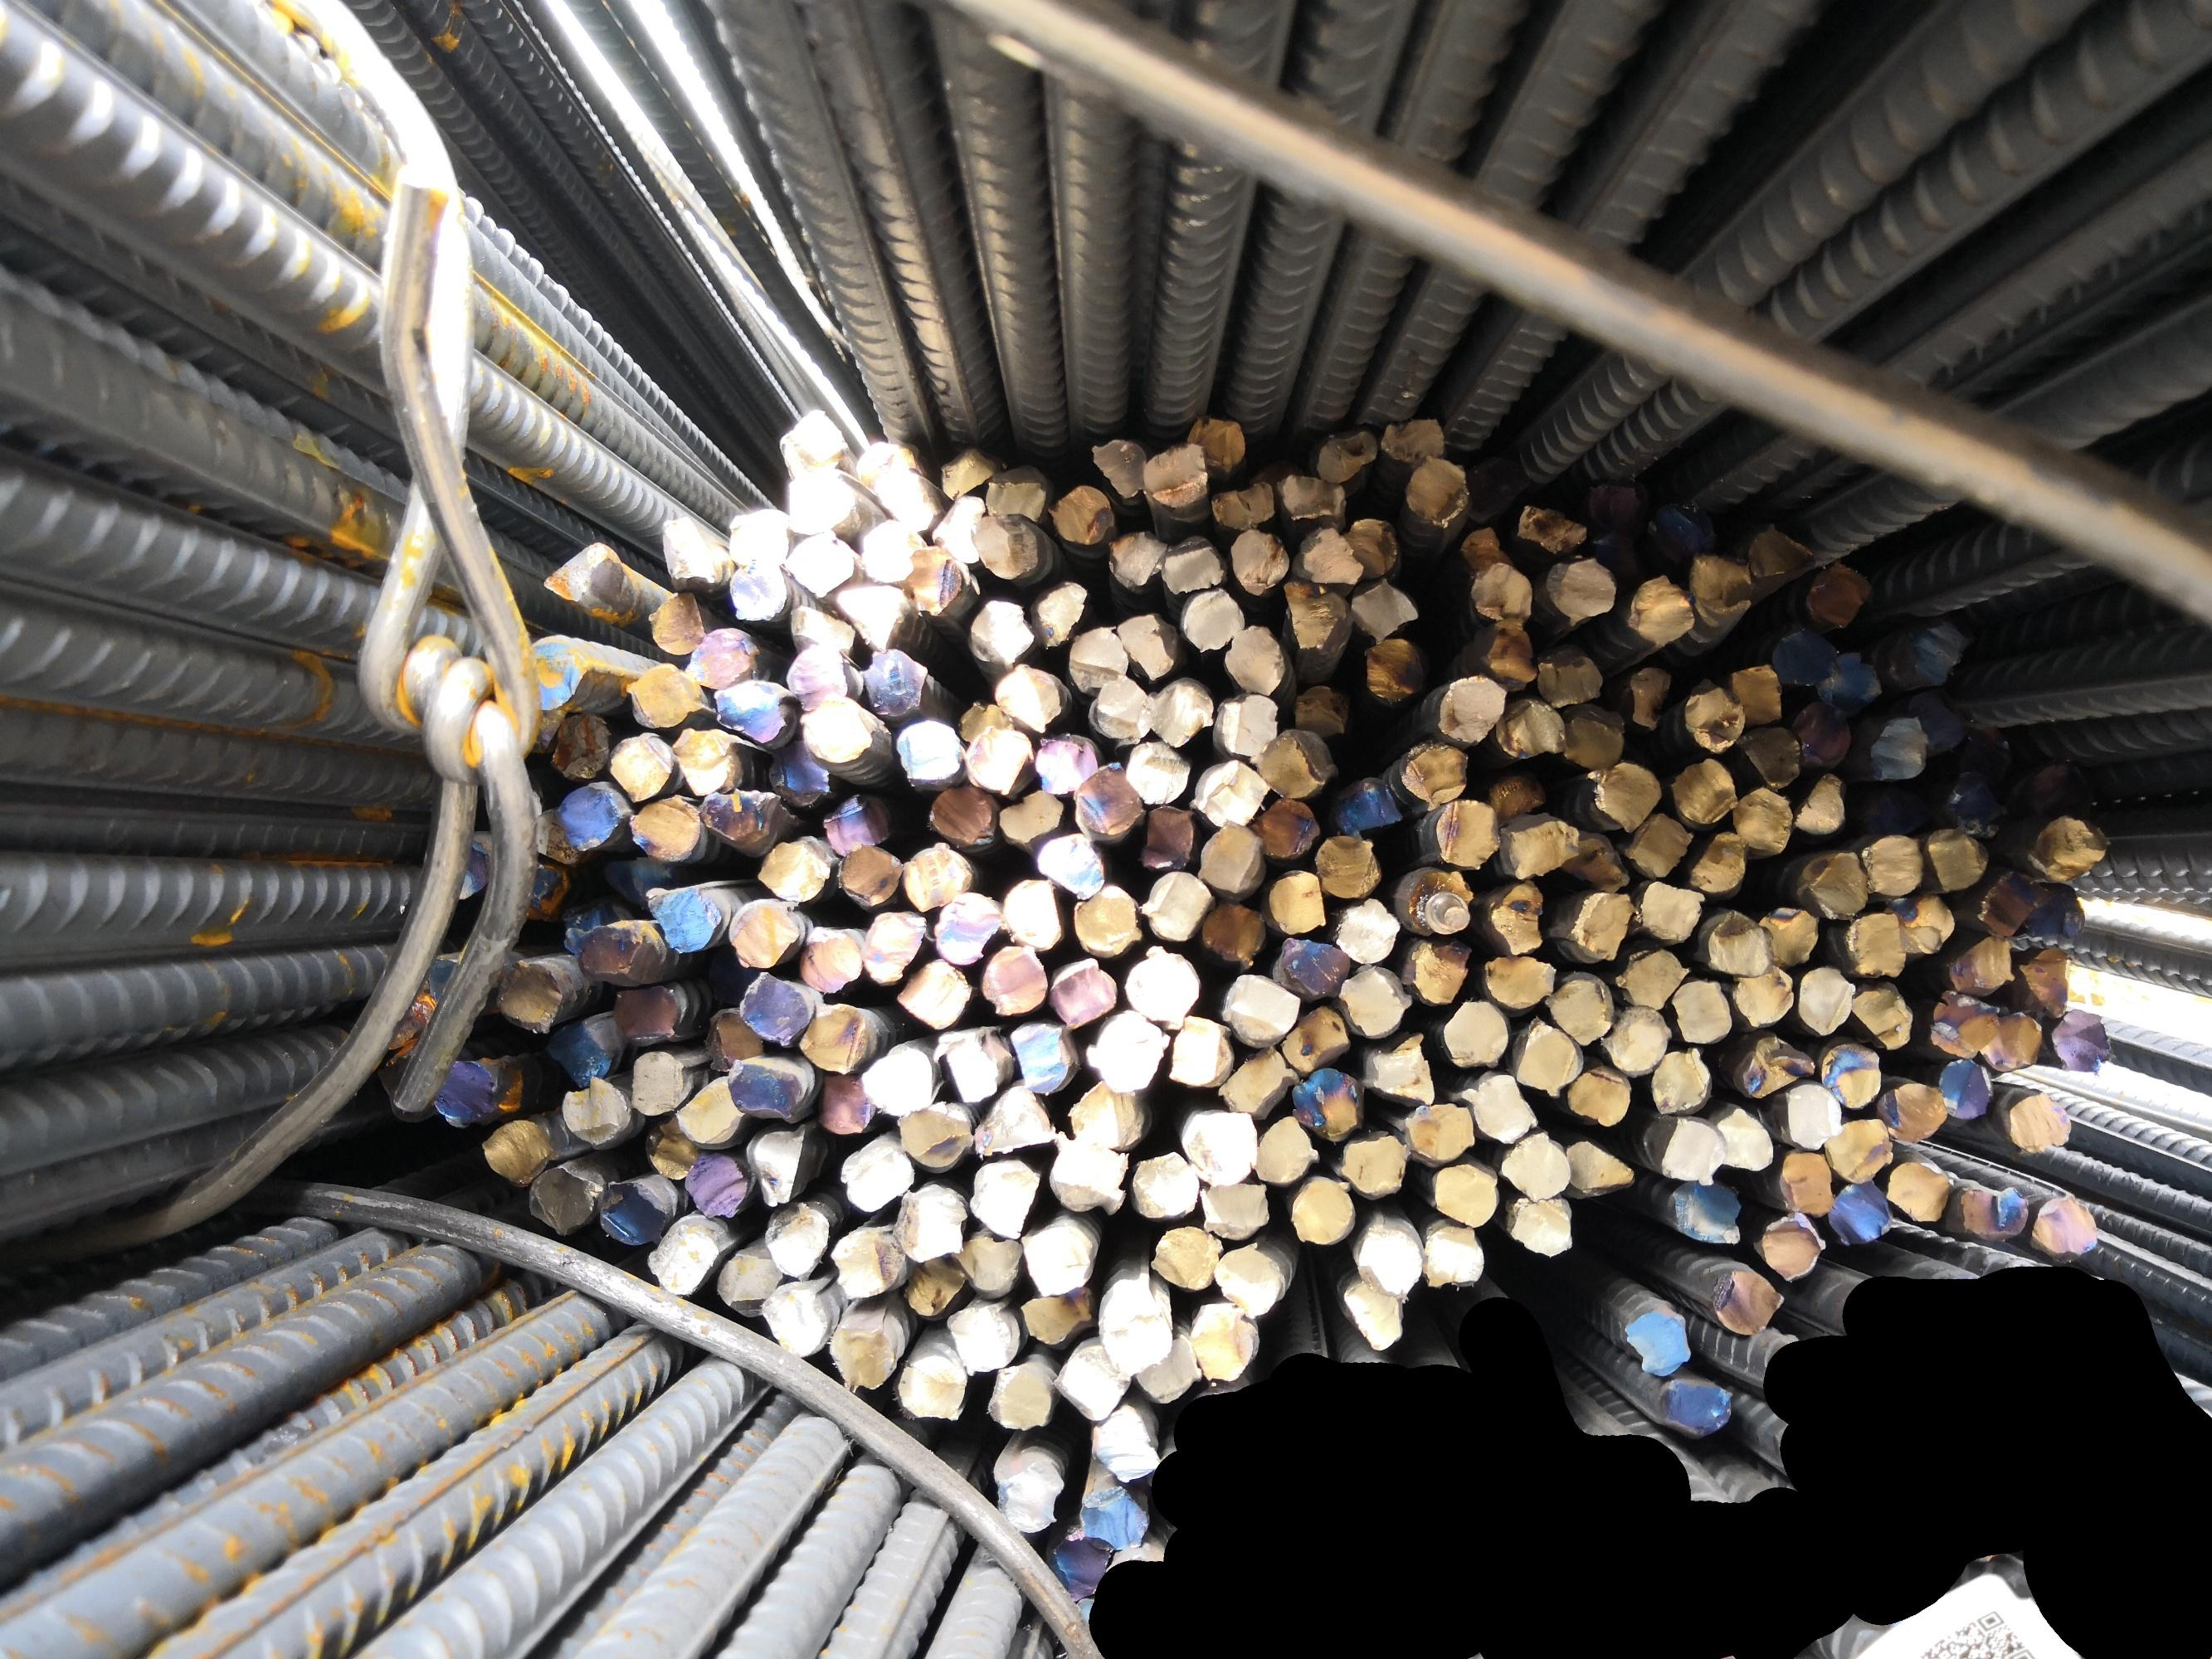bar: (1086, 1009, 1173, 1093), (1048, 1129, 1131, 1213), (1177, 1103, 1260, 1185), (1123, 946, 1203, 1032), (1096, 1291, 1175, 1377), (973, 1080, 1056, 1157), (1049, 1344, 1130, 1422), (1218, 972, 1302, 1047), (643, 1216, 720, 1297), (1018, 1216, 1095, 1297), (1335, 960, 1415, 1037), (891, 1183, 967, 1262), (798, 690, 877, 767), (1210, 1239, 1286, 1317), (544, 535, 619, 615), (1217, 1042, 1297, 1117), (969, 1155, 1041, 1239), (994, 1446, 1065, 1530), (2025, 812, 2111, 882), (1975, 863, 2052, 939), (1459, 1072, 1539, 1145), (1581, 760, 1665, 829), (1515, 1012, 1583, 1098), (736, 969, 812, 1044), (1928, 986, 2005, 1061), (1748, 1208, 1825, 1283), (894, 958, 974, 1030), (1089, 1401, 1159, 1483), (744, 1122, 812, 1206), (826, 1323, 899, 1399), (992, 659, 1065, 735), (1541, 972, 1618, 1046), (1192, 758, 1271, 829), (1192, 821, 1264, 899), (1065, 1079, 1143, 1150), (1353, 1223, 1424, 1302), (1708, 1269, 1787, 1340), (558, 1073, 631, 1148), (840, 1141, 915, 1215), (1138, 870, 1213, 943), (1625, 572, 1698, 647), (1046, 955, 1117, 1032), (1496, 1129, 1572, 1201), (1604, 1002, 1675, 1079), (1394, 739, 1471, 810), (624, 659, 702, 728), (858, 645, 931, 718), (1070, 882, 1143, 955), (1436, 674, 1511, 746), (1625, 1307, 1696, 1382), (675, 1072, 744, 1148), (758, 1281, 828, 1358), (861, 1044, 938, 1114), (783, 465, 859, 535), (1504, 810, 1581, 880), (641, 884, 720, 951), (763, 1201, 831, 1279), (521, 631, 587, 711), (1271, 936, 1351, 1002), (1049, 1521, 1114, 1603), (523, 1162, 594, 1236), (899, 840, 973, 911), (1259, 728, 1330, 802), (1703, 906, 1774, 979), (898, 1100, 973, 1169), (757, 835, 831, 904), (833, 582, 908, 652), (1442, 995, 1511, 1070), (711, 674, 788, 742), (1279, 577, 1347, 653), (1072, 762, 1140, 838), (1565, 885, 1633, 962), (1333, 1129, 1412, 1195), (1738, 1035, 1818, 1100), (479, 1117, 551, 1188), (945, 1302, 1016, 1373), (831, 1229, 903, 1300), (1292, 1065, 1363, 1136), (1433, 796, 1504, 868), (729, 896, 798, 969), (629, 789, 702, 859), (973, 511, 1046, 580), (967, 594, 1037, 667), (1077, 1481, 1147, 1554), (1903, 612, 1973, 685), (1797, 849, 1867, 922), (429, 1058, 497, 1133), (1368, 1030, 1436, 1105), (495, 957, 561, 1033), (861, 906, 927, 983), (1187, 1309, 1253, 1385), (1666, 1178, 1743, 1244), (797, 1002, 866, 1073), (1429, 1157, 1501, 1227), (1557, 697, 1626, 769), (1860, 714, 1931, 784), (1822, 1176, 1891, 1248), (981, 941, 1049, 1014), (964, 721, 1032, 795), (1035, 831, 1109, 899), (1633, 878, 1706, 946), (725, 1056, 800, 1122), (1018, 1277, 1093, 1344), (1496, 692, 1571, 758), (1947, 763, 2013, 838), (657, 509, 720, 587), (1166, 1012, 1229, 1091), (1684, 676, 1747, 755), (1396, 1100, 1476, 1161), (786, 528, 856, 598), (1124, 737, 1194, 807), (1405, 934, 1475, 1004), (1731, 718, 1801, 788), (892, 1356, 964, 1424), (1279, 1004, 1351, 1072), (1339, 1277, 1407, 1349), (2006, 1086, 2074, 1157), (1825, 1114, 1896, 1182), (2031, 1192, 2099, 1263), (934, 1030, 1001, 1103), (608, 728, 675, 802), (948, 1232, 1023, 1297), (934, 890, 999, 965), (1659, 1375, 1734, 1439), (1482, 612, 1541, 692), (716, 1248, 784, 1317), (983, 1364, 1053, 1432), (894, 716, 964, 784), (1351, 577, 1419, 647), (1130, 1150, 1199, 1218), (1407, 866, 1476, 934), (1625, 810, 1694, 878), (1815, 645, 1883, 714), (1672, 756, 1741, 824), (1951, 927, 2019, 997), (1884, 1154, 1952, 1223), (610, 983, 682, 1049), (669, 725, 736, 796), (765, 737, 831, 809), (1150, 1227, 1222, 1293), (1422, 1223, 1489, 1295), (1252, 1114, 1318, 1185), (1727, 781, 1794, 852), (1405, 455, 1469, 528), (1618, 946, 1691, 1011), (1515, 495, 1590, 558), (542, 1019, 610, 1087), (783, 643, 851, 711), (1804, 558, 1872, 626), (556, 779, 622, 849), (683, 622, 753, 688), (821, 788, 891, 854), (777, 406, 847, 472), (1147, 680, 1213, 749), (1335, 896, 1401, 965), (1548, 556, 1618, 622), (1569, 477, 1639, 544), (1686, 551, 1752, 620), (2024, 880, 2090, 950), (1712, 1105, 1776, 1176), (1002, 877, 1065, 950), (1009, 1019, 1070, 1094), (1785, 1077, 1846, 1152), (1490, 878, 1550, 955), (2020, 941, 2078, 1019), (598, 1182, 666, 1248), (797, 927, 865, 993), (1049, 483, 1117, 549), (1213, 690, 1279, 758), (1135, 1335, 1203, 1401), (1288, 1176, 1354, 1244), (1508, 1192, 1574, 1260), (1771, 624, 1839, 690), (1841, 910, 1907, 978), (1729, 960, 1795, 1028), (1849, 985, 1916, 1053), (1658, 1117, 1724, 1185), (927, 782, 997, 847), (1313, 831, 1382, 896), (1222, 622, 1285, 694), (1822, 1037, 1884, 1108), (933, 443, 1008, 502), (1196, 1183, 1271, 1243), (1482, 950, 1557, 1009), (1032, 728, 1098, 795), (1182, 587, 1248, 653), (1562, 828, 1628, 894), (1924, 824, 1991, 890), (1860, 829, 1926, 896), (1203, 899, 1267, 967), (1903, 683, 1968, 751), (812, 1065, 875, 1134), (1089, 673, 1152, 742), (1635, 507, 1705, 570), (2053, 1004, 2116, 1073), (1886, 892, 1956, 955), (1747, 523, 1818, 584), (1030, 579, 1089, 652), (1562, 1136, 1635, 1195), (573, 924, 650, 979), (725, 505, 791, 570), (983, 460, 1049, 525), (1537, 645, 1604, 709), (1755, 903, 1822, 967), (683, 1152, 746, 1220), (840, 840, 903, 908), (994, 784, 1063, 845), (903, 544, 964, 613), (1365, 634, 1424, 706), (1116, 608, 1175, 680), (1958, 1183, 2029, 1243), (1797, 964, 1855, 1037), (697, 786, 772, 842), (702, 1009, 767, 1073), (1255, 796, 1321, 859), (1879, 1080, 1945, 1143), (861, 516, 922, 584), (873, 465, 934, 533), (1297, 528, 1365, 589), (1264, 868, 1325, 936), (1668, 976, 1729, 1044), (1774, 1147, 1835, 1215), (1067, 622, 1126, 692), (1790, 699, 1849, 769), (1651, 1044, 1710, 1114), (1143, 443, 1208, 505), (647, 587, 708, 653), (1569, 1065, 1635, 1126), (1229, 526, 1288, 594), (1333, 777, 1401, 836), (551, 709, 608, 779), (603, 852, 673, 910), (629, 1046, 687, 1115), (931, 493, 987, 565), (905, 1253, 966, 1317), (1107, 525, 1168, 589), (1157, 532, 1222, 592), (1858, 784, 1933, 836), (1140, 802, 1198, 870), (1792, 770, 1849, 838), (1687, 828, 1745, 896), (558, 897, 629, 951), (1471, 561, 1534, 622), (1088, 437, 1147, 502), (512, 859, 570, 925), (729, 556, 786, 622), (1340, 514, 1398, 580), (1982, 1011, 2043, 1072), (1727, 659, 1785, 723), (786, 603, 856, 655), (1314, 427, 1379, 483), (2020, 751, 2074, 817), (1940, 1054, 1994, 1121), (1185, 413, 1245, 472), (643, 1115, 699, 1178), (1276, 472, 1347, 521), (1625, 659, 1673, 730), (852, 434, 917, 488), (1208, 479, 1276, 530), (1487, 769, 1553, 817), (1292, 683, 1349, 739), (1379, 416, 1447, 464), (532, 805, 579, 866), (952, 699, 1013, 741), (1461, 525, 1510, 573)
